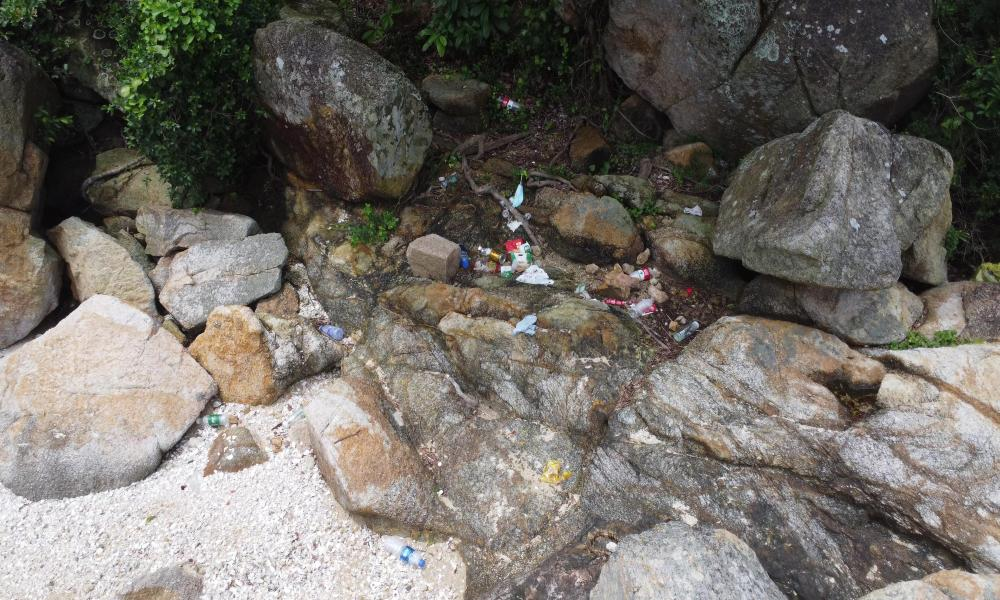can: (488, 246, 505, 266)
plastic bag: (517, 262, 556, 285), (514, 308, 536, 338), (678, 202, 704, 215), (507, 218, 522, 232)
plastic bottle: (379, 532, 429, 570), (316, 318, 348, 344), (626, 297, 658, 320), (674, 321, 702, 341), (440, 169, 462, 191), (455, 241, 470, 271), (498, 95, 524, 112), (628, 266, 656, 280), (501, 206, 510, 217)
